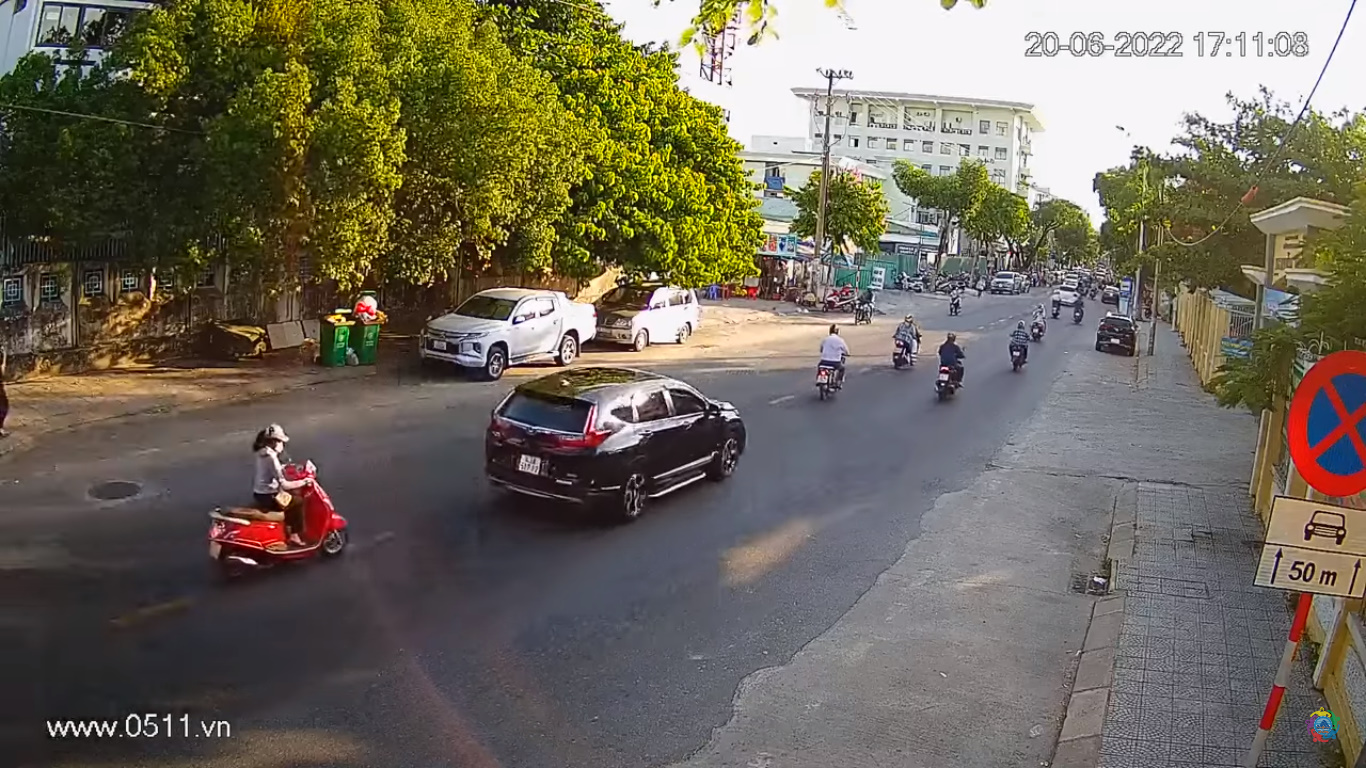car: (480, 365, 749, 521)
